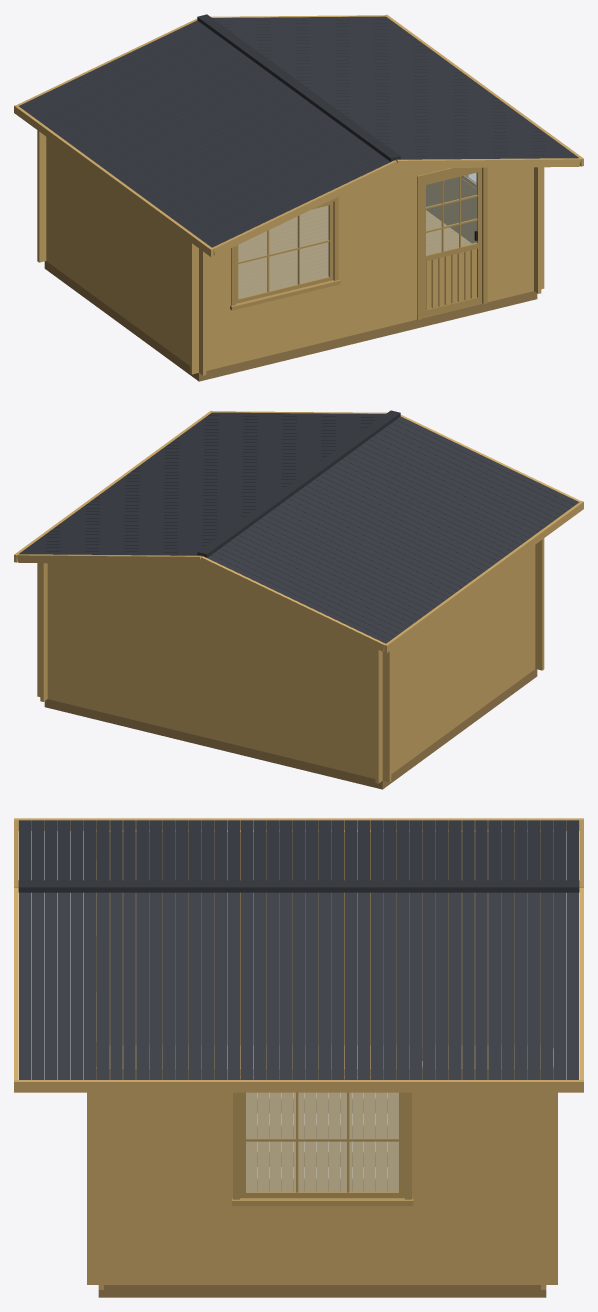
The model's file is диогу_5_4_44_мм.glb.
3 renders of one model, top to bottom at view 1: azimuth 30°, elevation 25°; view 2: azimuth 150°, elevation 25°; view 3: azimuth 270°, elevation 25°, orthographic. The views are drawn at different scales.
Visible parts, largest first — view 1: roof, walls, floor, object 6, house, object 27, object 33, object 34, object 13, object 15, object 14, object 5 (+1 smaller); view 2: roof, walls, house; view 3: roof, walls, floor, object 40, house, object 47, object 39, object 45, object 44, object 36, object 37.
Part boxes in pixels (box(x1,y1,x2,y2)): roof: box(14, 14, 583, 256); walls: box(37, 130, 544, 375); floor: box(238, 205, 471, 305); object 6: box(238, 205, 328, 298); house: box(44, 261, 537, 381); object 27: box(426, 173, 476, 255); object 33: box(417, 175, 422, 320); object 34: box(482, 167, 487, 304); object 13: box(230, 279, 340, 310); object 15: box(476, 167, 481, 297); object 14: box(422, 179, 425, 317); object 5: box(236, 276, 333, 303); roof: box(14, 410, 583, 652); walls: box(37, 538, 544, 783); house: box(44, 669, 537, 789); roof: box(14, 818, 583, 1092); walls: box(87, 830, 557, 1289); floor: box(109, 1045, 540, 1191); object 40: box(246, 1093, 398, 1191); house: box(98, 1048, 546, 1297); object 47: box(232, 1198, 413, 1206); object 39: box(240, 1191, 404, 1198); object 45: box(405, 1077, 411, 1199); object 44: box(233, 1092, 239, 1199); object 36: box(240, 1092, 245, 1198); object 37: box(399, 1092, 404, 1198).
Size of the model in its own units: 5.3 by 2.76 by 4.84.
